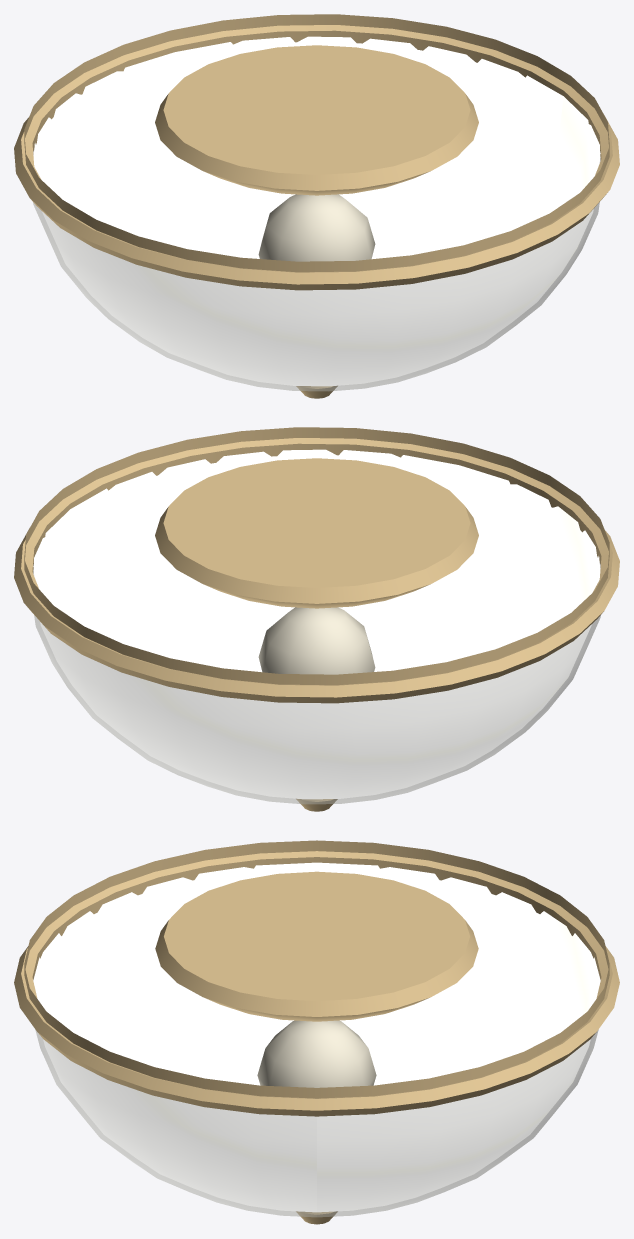
The model's file is SM_Ceiling_Light_Home.fbx.
3 renders of one model, top to bottom at view 1: azimuth 30°, elevation 25°; view 2: azimuth 150°, elevation 25°; view 3: azimuth 270°, elevation 25°, orthographic.
Parts seen in each view (by area): view 1: SM_Ceiling_Light_Home_1; view 2: SM_Ceiling_Light_Home_1; view 3: SM_Ceiling_Light_Home_1.
Part boxes in pixels (x1,y1,x2,y2): SM_Ceiling_Light_Home_1: (14, 14, 619, 398); SM_Ceiling_Light_Home_1: (14, 427, 619, 811); SM_Ceiling_Light_Home_1: (14, 840, 619, 1224).
Bounding box in the file's own units: 35.6 × 18.4 × 35.6.
